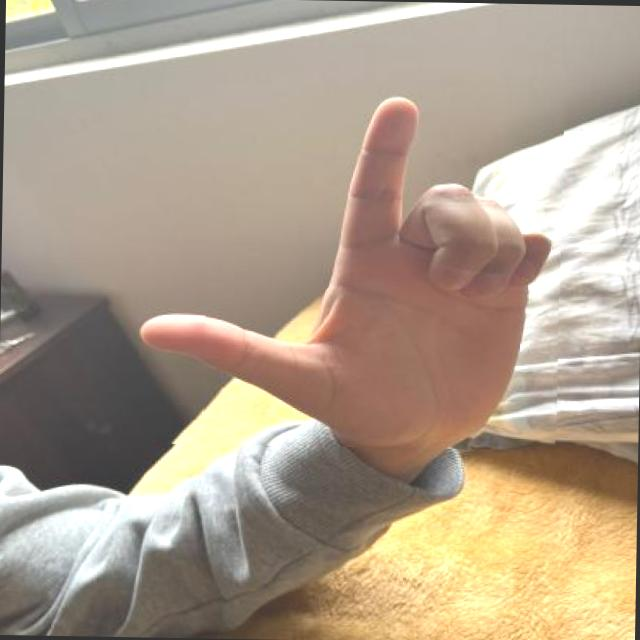L: (137, 81, 564, 450)
